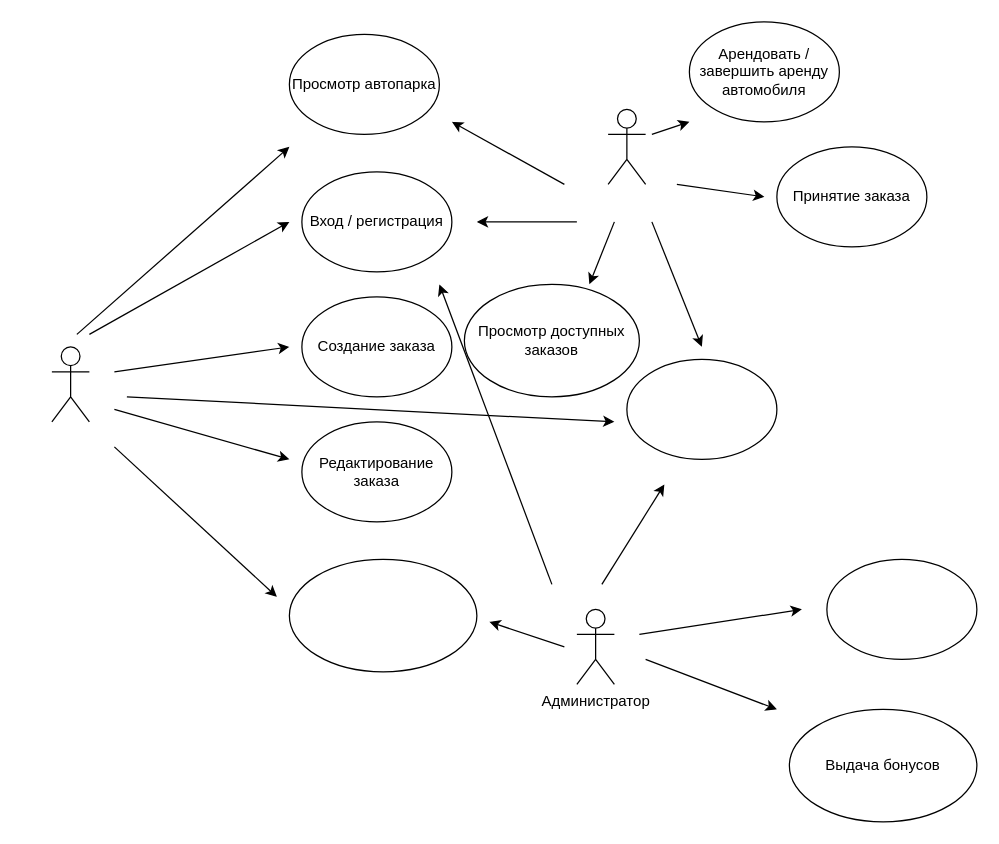
This 999x844 diagram has some shape labels left out. Each missing label, with the centre of its shape:
"Водитель" goes at [626,146].
"Пользователь" goes at [70,384].
"Просмотр данных о поездках и перевозках" goes at [382,615].
"Просмотр маршрутов" goes at [701,408].
"Управление автопарком" goes at [901,608].
